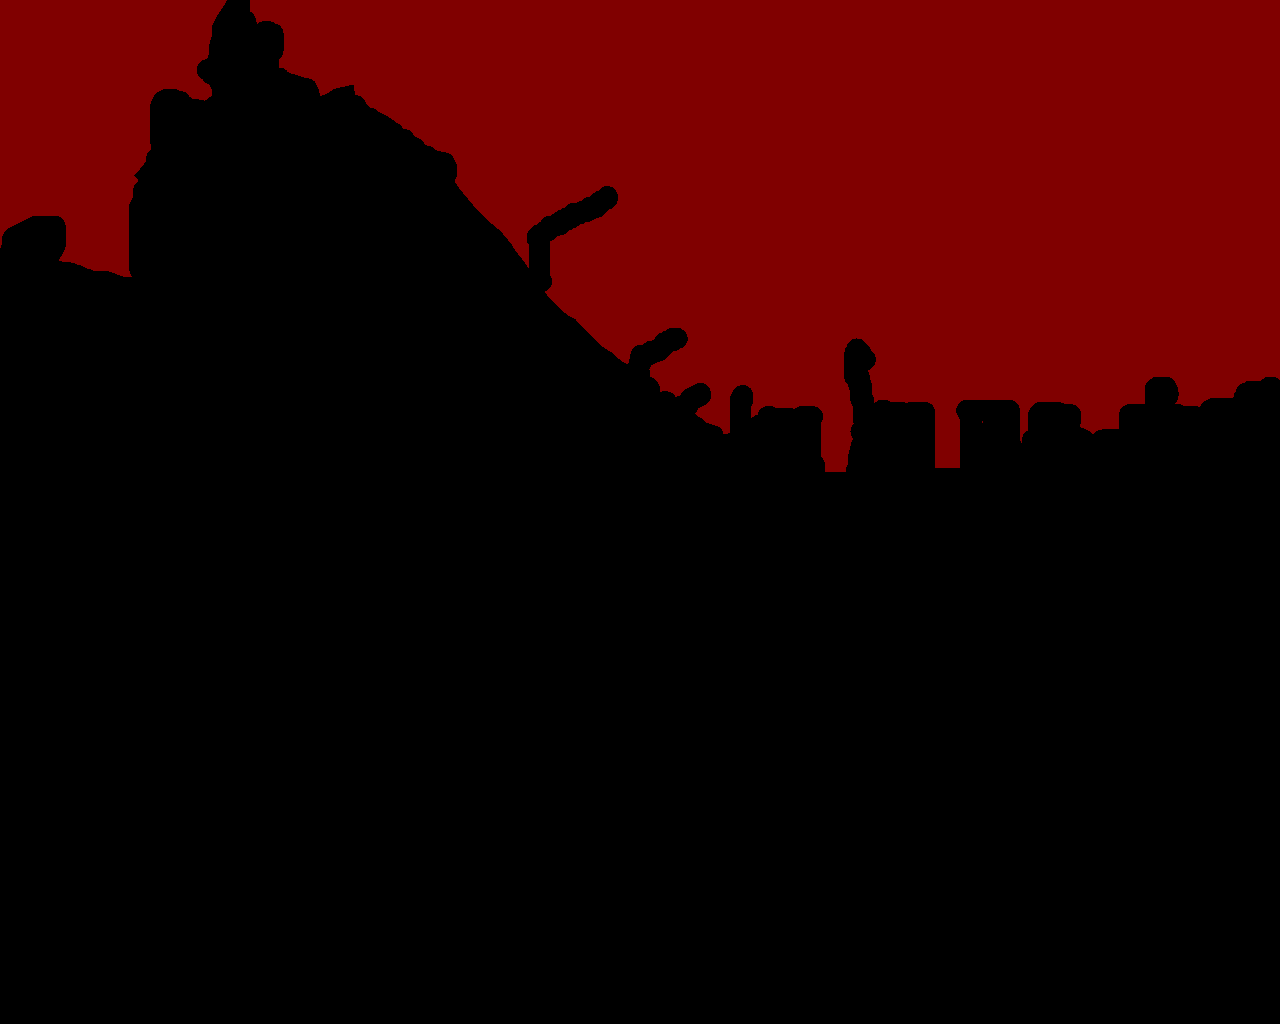Sky: (1, 1, 1279, 472)
